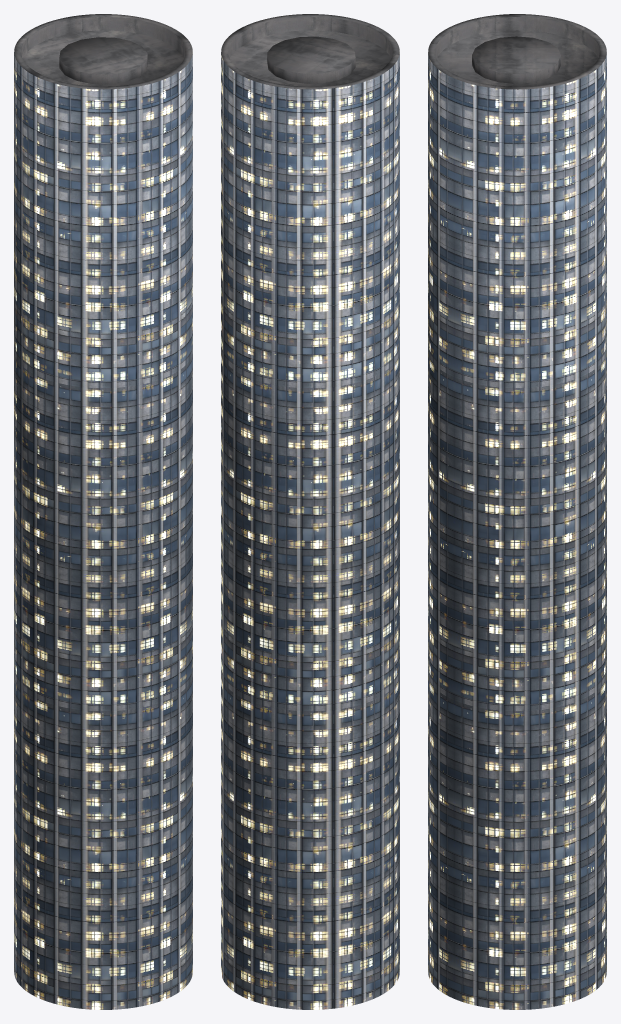
File: rounded-high-rise.glb
3 views of the same model, side by side, from view 1: azimuth 30°, elevation 25°; view 2: azimuth 150°, elevation 25°; view 3: azimuth 270°, elevation 25° (orthographic).
Parts seen in each view (by area): view 1: rounded-high-rise; view 2: rounded-high-rise; view 3: rounded-high-rise.
Boxes of the visible parts, x1=… form: rounded-high-rise: x1=14, y1=14, x2=192, y2=1009; rounded-high-rise: x1=221, y1=14, x2=399, y2=1009; rounded-high-rise: x1=428, y1=14, x2=606, y2=1009.
Size of the model in its own units: 45.46 by 258 by 45.46.
2 materials, 2 textured.
